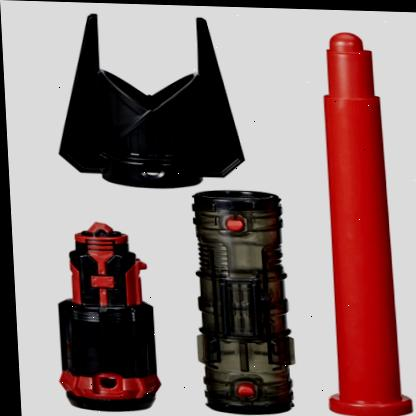sith_lightsaber: (297, 23, 416, 416), (42, 6, 265, 190), (179, 183, 307, 416), (39, 213, 178, 416)
